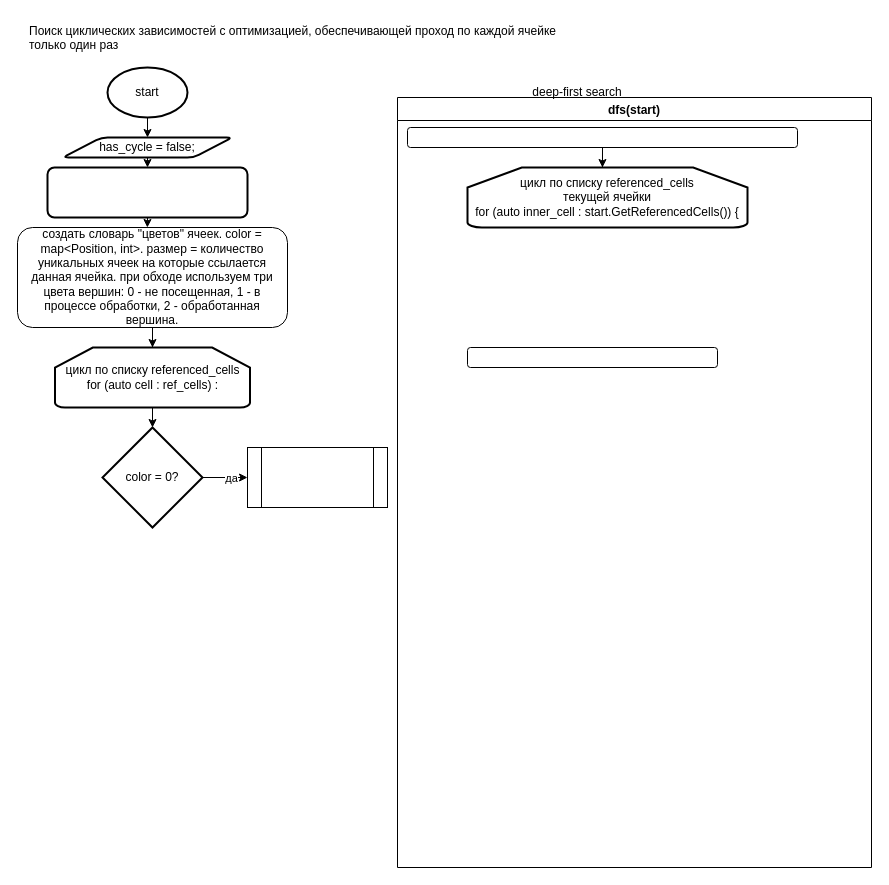
The diagram is 889 pixels wide and 885 high, and some of its shapes have lost their labels. The shapes that lost their labels are listed below. From the top down, each one's centre as x and y in pixels, then its label:
At (x=602, y=137): "color[start] = 1; // ячейка в процессе обработки".
At (x=147, y=192): "Получить список всех ячеек, на которе непосредственно ссылается ячейка".
At (x=592, y=357): "color[start] = 2; // ячейка обрабтоана".
At (x=317, y=477): "Выполнить поиск в глубину этой вершины dfs(cell)".
